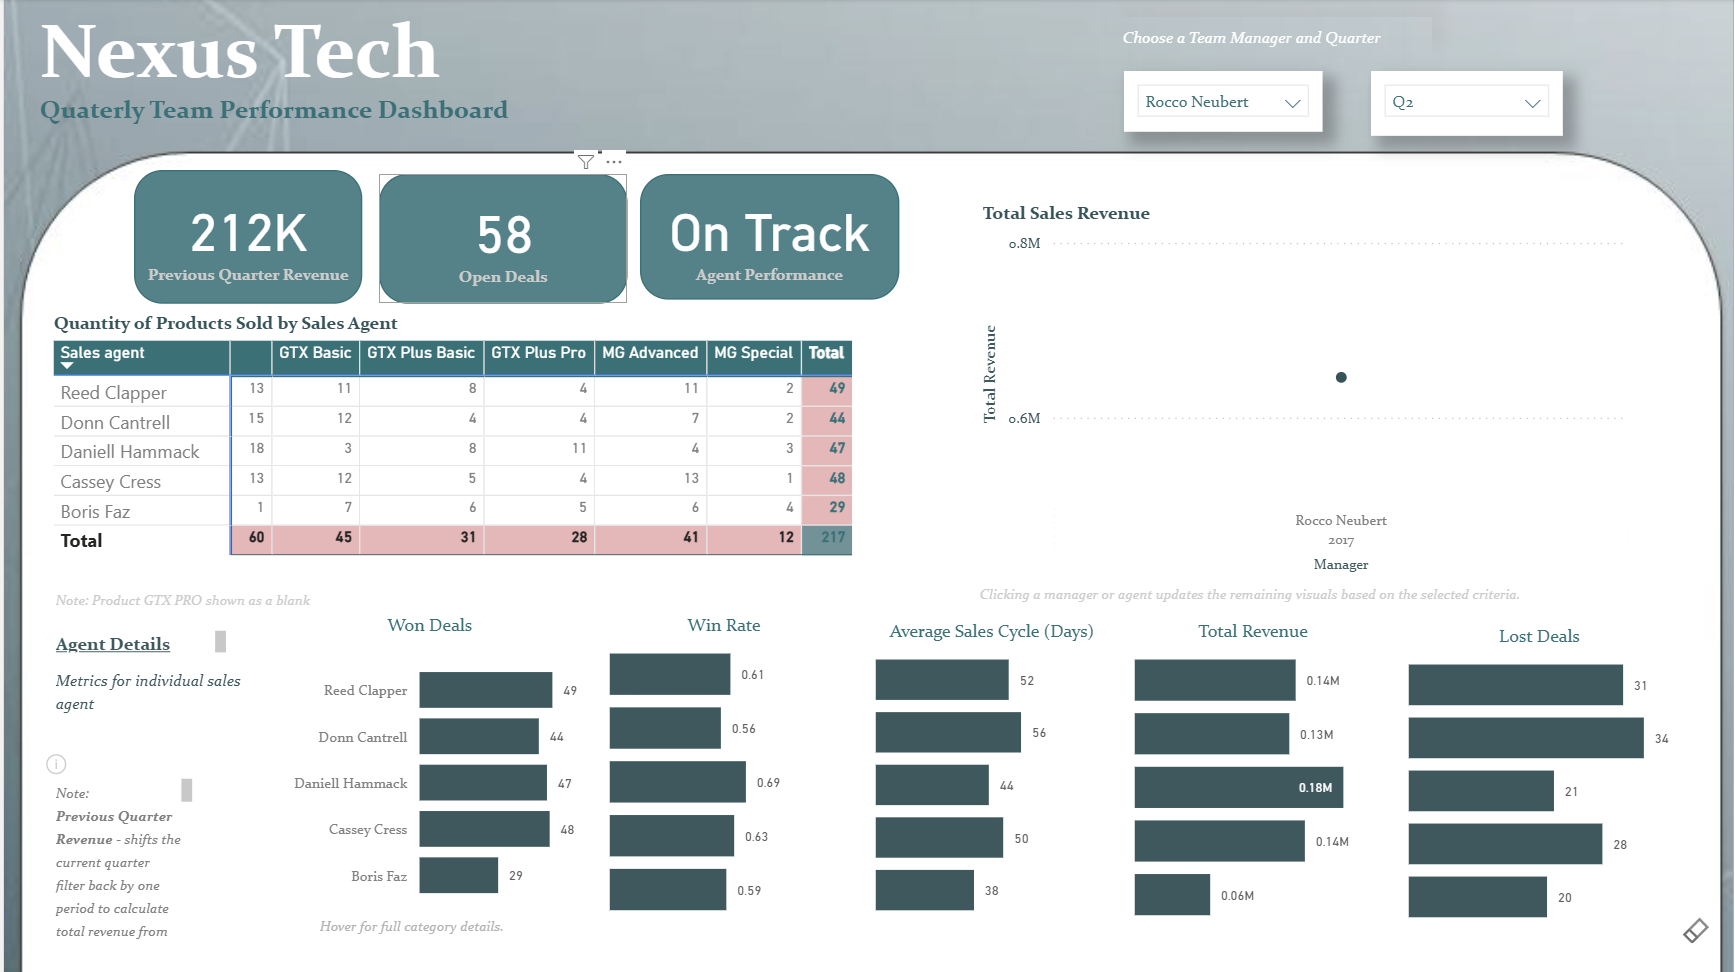

What the dashboard file says about the page in this screenshot:
{"tool":"powerbi","page":{"name":"Page 1 - Team Performance ","canvas":[1280,720],"ordinal":1},"visuals":[{"type":"clusteredBarChart","title":"Won Deals ","fields":{"Category":["sales_teams.Sales agent"],"Y":["Measure table.Won Deals"]},"box":[200.6,454.8,229.3,227],"z":0},{"type":"clusteredBarChart","title":"Win Rate ","fields":{"Category":["sales_teams.Sales agent"],"Y":["Measure table.Win Rate"]},"box":[443.1,454.8,179.3,226.3],"z":1000},{"type":"clusteredBarChart","title":"Average Sales Cycle (Days)","fields":{"Category":["sales_teams.Sales agent"],"Y":["Measure table.Avg Sales Cycle (Days)"]},"box":[640.7,459.2,182.2,221.9],"z":2000},{"type":"clusteredBarChart","title":"Total Revenue ","fields":{"Category":["sales_teams.Sales agent"],"Y":["Measure table.Total Revenue"]},"box":[831.8,459.2,185.2,225.6],"z":3000},{"type":"clusteredBarChart","title":"Lost Deals ","fields":{"Category":["sales_teams.Sales agent"],"Y":["Measure table.Lost Deals"]},"box":[1035.3,462.9,203.5,223.4],"z":4000},{"type":"textbox","box":[33.2,462.6,136.4,26.4],"z":5000},{"type":"textbox","box":[33.2,489,148.1,64.5],"z":6000},{"type":"treemap","title":"Total Sales Revenue by Sector","fields":{"Group":["accounts.sector"],"Values":["Measure table.Total Revenue"]},"box":[694.2,171.4,290,243.9],"z":7000},{"type":"slicer","title":"Choose a Team Manager","fields":{"Values":["sales_teams.Manager"]},"box":[828.8,53.6,147,44.8],"z":8000},{"type":"slicer","fields":{"Values":["Calendar.Quarter"]},"box":[1011.8,53.6,141.8,47.8],"z":9000},{"type":"pivotTable","fields":{"Rows":["sales_teams.Sales agent"],"Columns":["products.product"],"Values":["Measure table.Won Deal Count"]},"box":[85.4,239,599.6,190.4],"z":10000},{"type":"card","fields":{"Values":["Measure table.Revenue Prior Quarter"]},"box":[95.2,132.7,180,105.1],"z":11000},{"type":"card","fields":{"Values":["Measure table.Open Deals"]},"box":[285.1,132.7,190.4,106.3],"z":12000},{"type":"textbox","box":[21.5,0,333.1,82.6],"z":13000},{"type":"textbox","box":[21.5,65.3,393.4,34.7],"z":14000},{"type":"textbox","box":[823.1,13.2,233.9,28.1],"z":15000},{"type":"textbox","box":[33.2,571.9,110.6,129.6],"z":16000},{"type":"actionButton","box":[21.3,549.6,44.8,34.5],"z":17000},{"type":"textbox","box":[716.9,415.3,446,60.8],"z":18000},{"type":"textbox","box":[228.5,670.9,173.2,33.2],"z":19000},{"type":"actionButton","box":[1238.9,673.1,27.9,33.1],"z":20000},{"type":"card","fields":{"Values":["Measure table.Is Lagging Agent"]},"box":[484.1,132.7,186.1,106.3],"z":21000},{"type":"lineChart","title":"Total Sales Revenue","fields":{"Y":["Measure Table.Total Revenue"],"Category":["Calendar.Date.Variation.Date Hierarchy.Year","sales_teams.Manager"]},"box":[984.2,171.4,268.5,239],"z":22000}]}

Visuals, with their boxes in screenshot pixels (x1, y1, x2, y2), scaled from the page's 1280x720 canvas onto the 1735x972 screenshot:
"Won Deals " clusteredBarChart: detection(272, 614, 583, 920)
"Win Rate " clusteredBarChart: detection(601, 614, 844, 919)
"Average Sales Cycle (Days)" clusteredBarChart: detection(868, 620, 1115, 919)
"Total Revenue " clusteredBarChart: detection(1127, 620, 1379, 924)
"Lost Deals " clusteredBarChart: detection(1403, 625, 1679, 927)
textbox: detection(45, 625, 230, 660)
textbox: detection(45, 660, 246, 747)
"Total Sales Revenue by Sector" treemap: detection(941, 231, 1334, 561)
"Choose a Team Manager" slicer: detection(1123, 72, 1323, 133)
slicer - Calendar.Quarter: detection(1371, 72, 1564, 137)
pivotTable - sales_teams.Sales agent x products.product: detection(116, 323, 928, 580)
card - Measure table.Revenue Prior Quarter: detection(129, 179, 373, 321)
card - Measure table.Open Deals: detection(386, 179, 645, 323)
textbox: detection(29, 0, 481, 112)
textbox: detection(29, 88, 562, 135)
textbox: detection(1116, 18, 1433, 56)
textbox: detection(45, 772, 195, 947)
actionButton: detection(29, 742, 90, 789)
textbox: detection(972, 561, 1576, 643)
textbox: detection(310, 906, 544, 951)
actionButton: detection(1679, 909, 1717, 953)
card - Measure table.Is Lagging Agent: detection(656, 179, 908, 323)
"Total Sales Revenue" lineChart: detection(1334, 231, 1698, 554)
